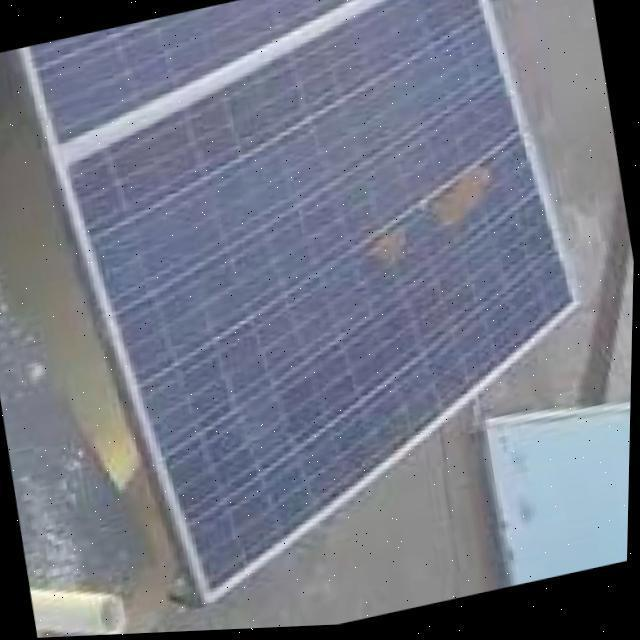Anomaly Solar Panel: (21, 0, 634, 598)
Surface Contaminant: (409, 147, 509, 251), (358, 219, 419, 278)
